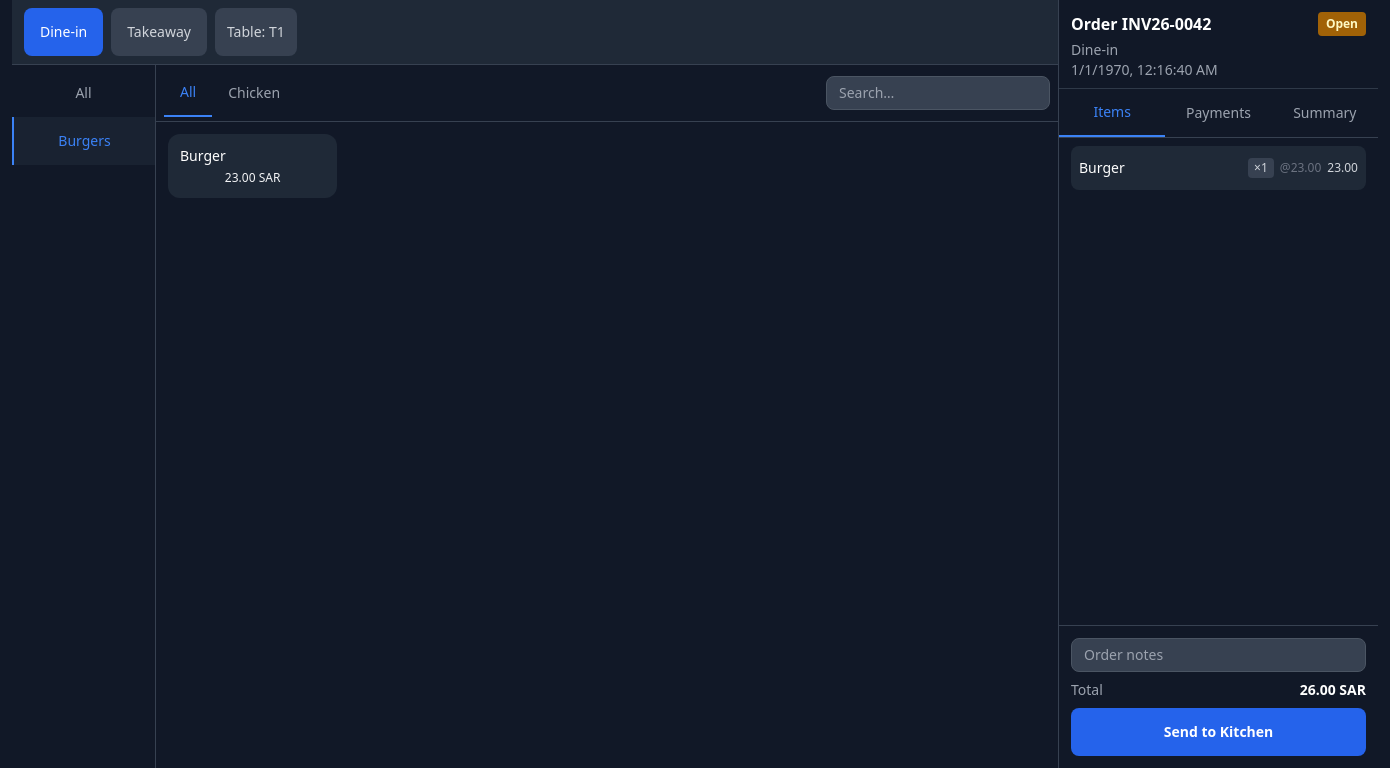
Test: OrderPage — type/table switch on open orders (#109) › open clean order: Takeaway click PATCHes type only and hides table control
Expected: the heading "Order INV26-0042" is shown, [1071, 12, 1211, 36]
Expected: the button "Dine-in" is enabled, [24, 8, 103, 56]
Step 1. Click the button "Takeaway" → (159, 32), box [111, 8, 207, 56]
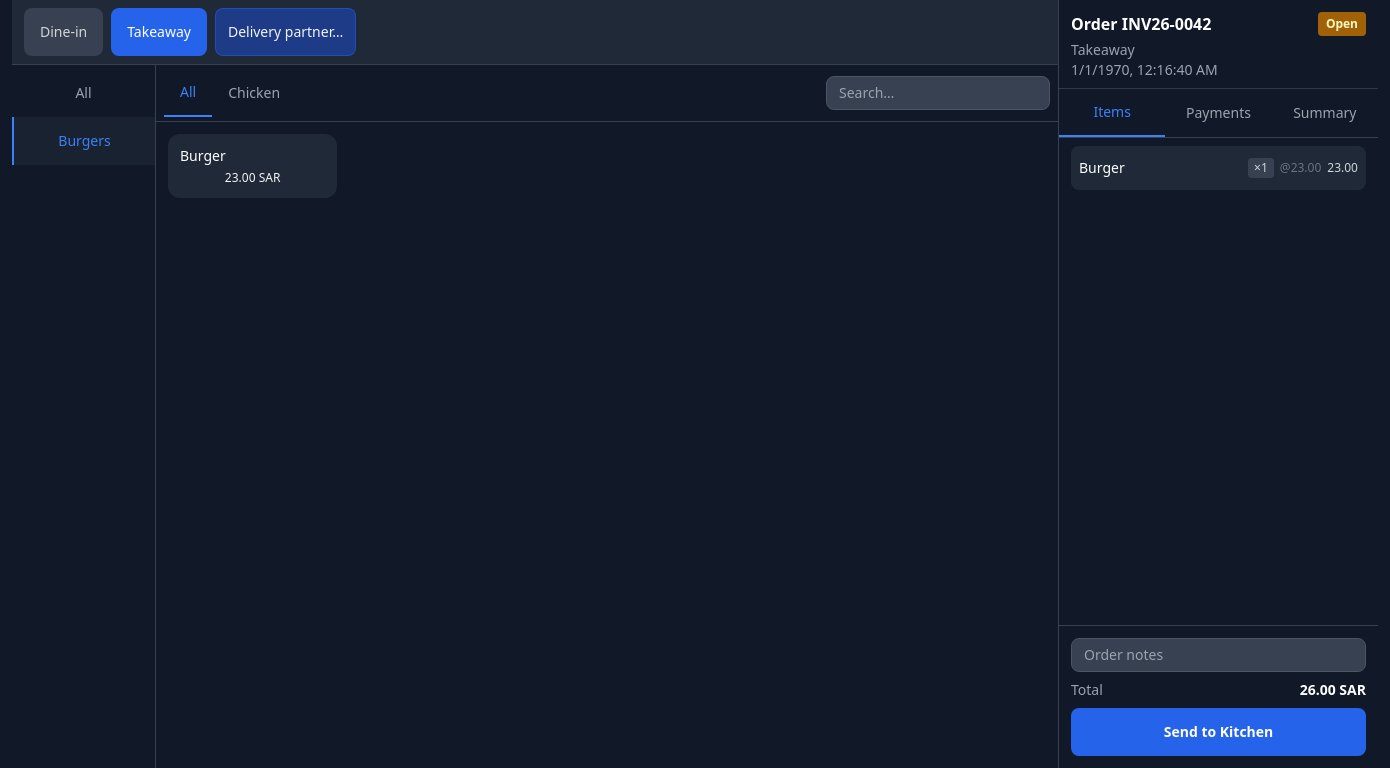
Now the button "Table:" is gone
